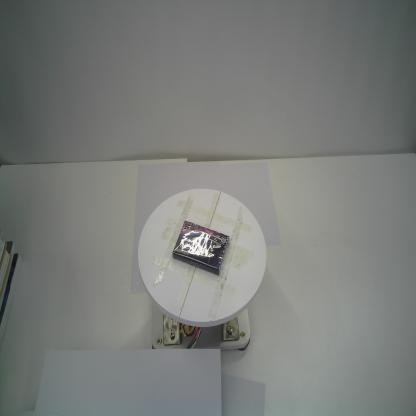Gum: (172, 220, 230, 275)
